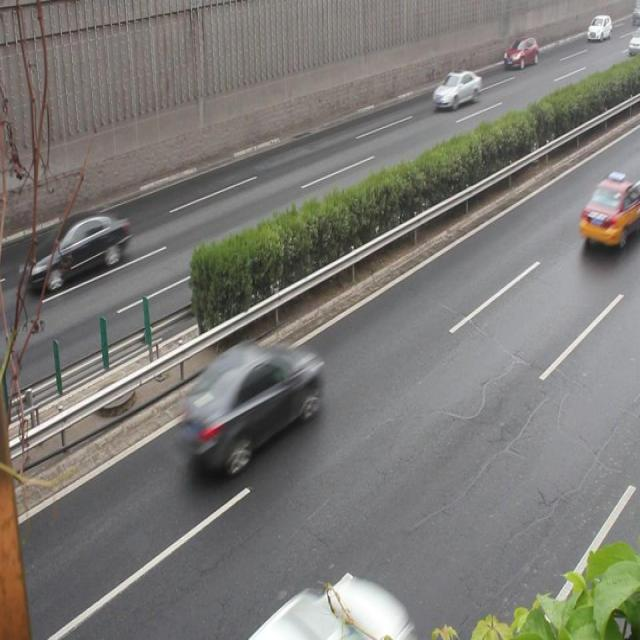car: (178, 341, 320, 468), (28, 208, 129, 290), (576, 172, 640, 249), (430, 68, 481, 112), (502, 36, 539, 72)
